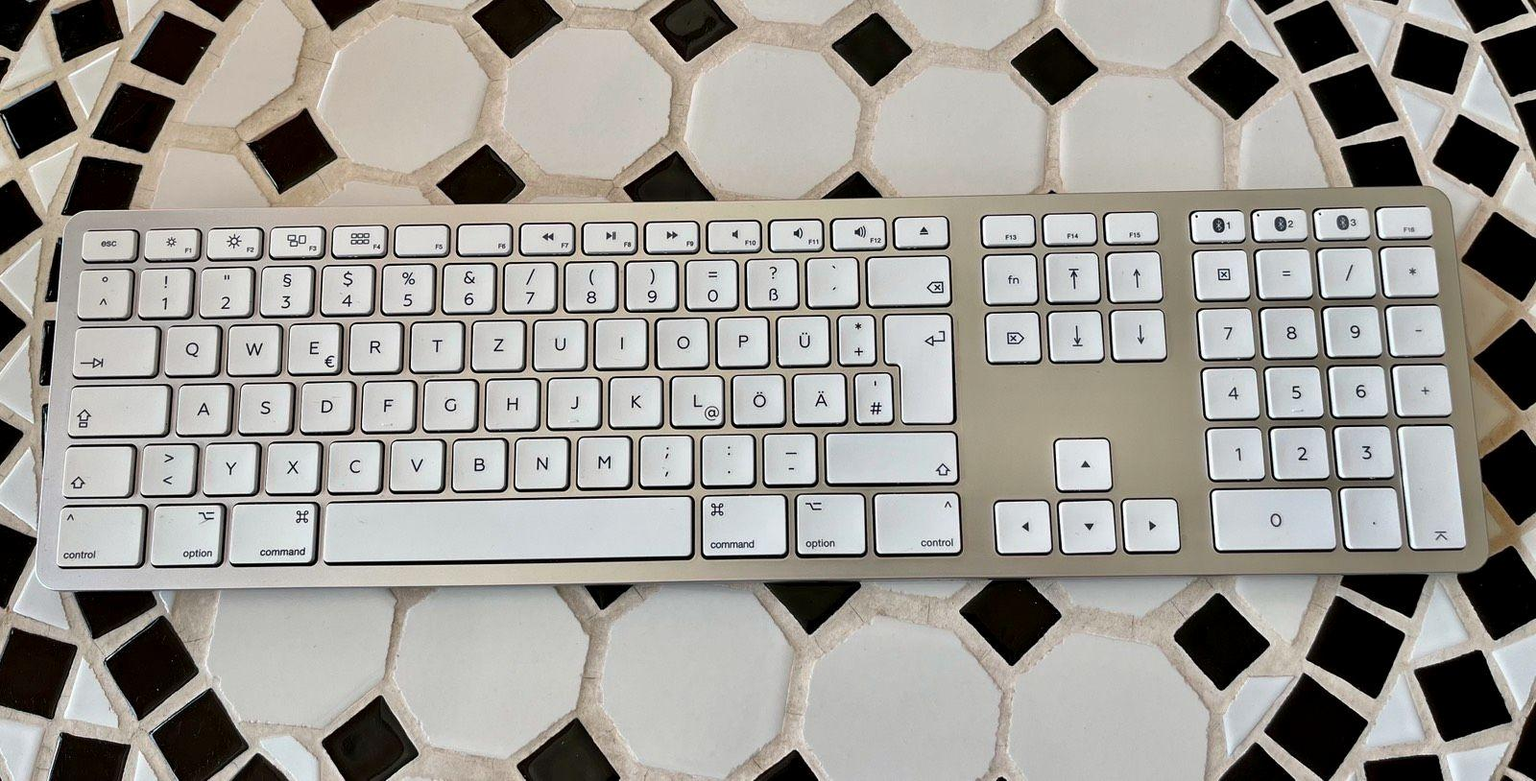0: (683, 255, 738, 309)
1: (135, 264, 192, 317)
2: (197, 263, 253, 316)
3: (257, 262, 313, 315)
4: (318, 260, 373, 314)
5: (378, 259, 435, 313)
6: (440, 259, 496, 312)
7: (501, 258, 556, 312)
8: (562, 258, 617, 311)
9: (622, 256, 679, 310)
a: (173, 379, 230, 434)
accent: (803, 252, 857, 304)
ae: (789, 368, 846, 423)
alt-left: (148, 499, 225, 566)
altgr-right: (790, 487, 866, 555)
b: (448, 434, 507, 489)
c: (324, 436, 382, 492)
caret: (75, 265, 131, 318)
comma: (636, 430, 692, 485)
d: (297, 376, 353, 432)
del: (863, 250, 950, 305)
e: (284, 319, 342, 373)
enter: (880, 308, 952, 423)
f: (358, 376, 415, 431)
g: (420, 374, 476, 430)
h: (482, 373, 539, 429)
hash: (852, 368, 892, 423)
i: (591, 314, 647, 367)
j: (544, 371, 600, 428)
k: (606, 371, 661, 426)
keyboard: (38, 191, 1480, 592)
l: (667, 371, 724, 426)
less: (137, 439, 196, 494)
m: (572, 431, 632, 487)
minus: (759, 429, 816, 484)
n: (511, 433, 569, 488)
o: (652, 313, 708, 367)
oe: (729, 370, 784, 425)
p: (713, 313, 768, 366)
plus: (835, 310, 875, 364)
point: (698, 430, 754, 485)
q: (161, 320, 220, 375)
r: (346, 318, 401, 372)
s: (235, 378, 292, 433)
shift-left: (60, 440, 133, 496)
shift-lock: (66, 380, 170, 435)
shift-right: (821, 426, 957, 482)
space: (320, 492, 693, 561)
ss: (743, 254, 799, 307)
strg-left: (54, 500, 145, 567)
strg-right: (870, 486, 964, 555)
t: (407, 317, 463, 370)
tab: (70, 321, 158, 376)
u: (530, 314, 587, 369)
ue: (774, 311, 829, 366)
v: (386, 435, 444, 490)
w: (224, 319, 280, 374)
x: (262, 438, 320, 493)
y: (200, 438, 258, 493)
z: (468, 316, 524, 369)
